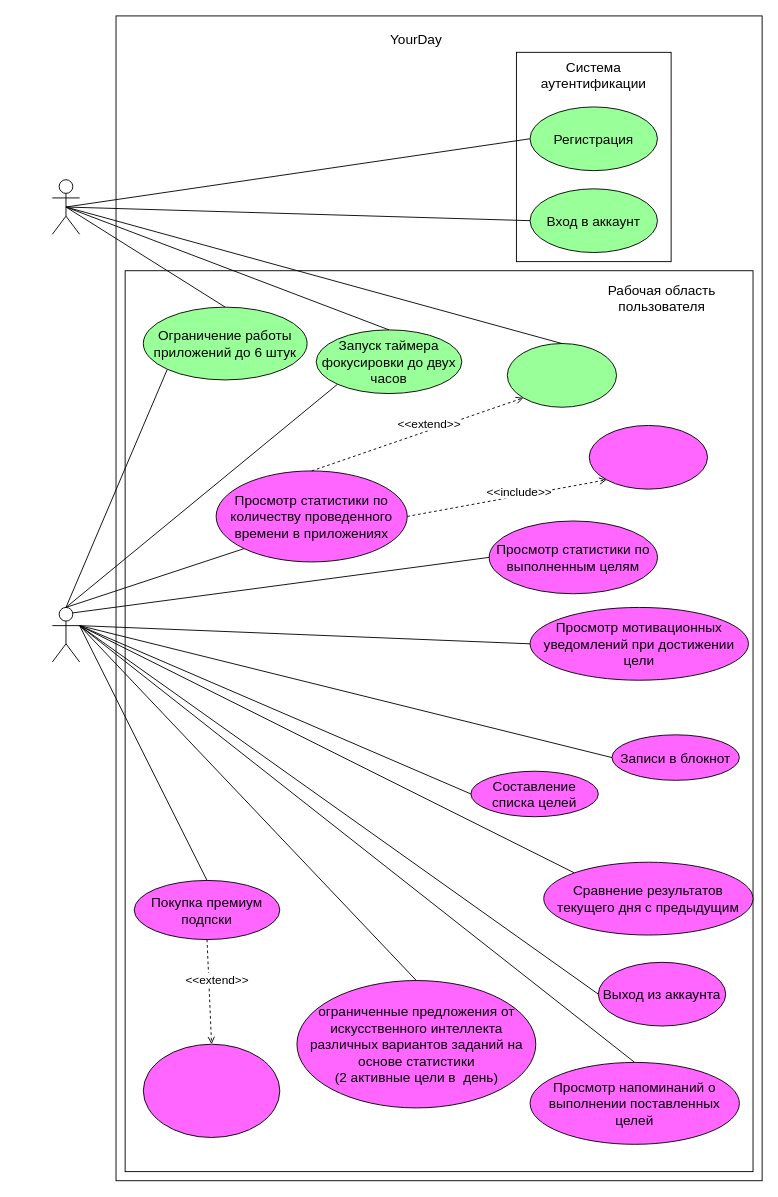
Image size: 778x1197. Some labels were removed from this diagram. The centre of each missing label's shape, as x and y in pixels:
"Автопродление премиум подписки" goes at (211,1090).
"Авторизованный пользователь" goes at (65,634).
"Неавторизованный пользователь" goes at (65,206).
"Просмотр статистики за 3 дня" goes at (561,375).
"Просмотр статистики за все время" goes at (648,457).
